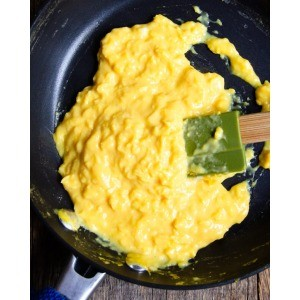egg_brain food: (74, 63, 214, 236)
